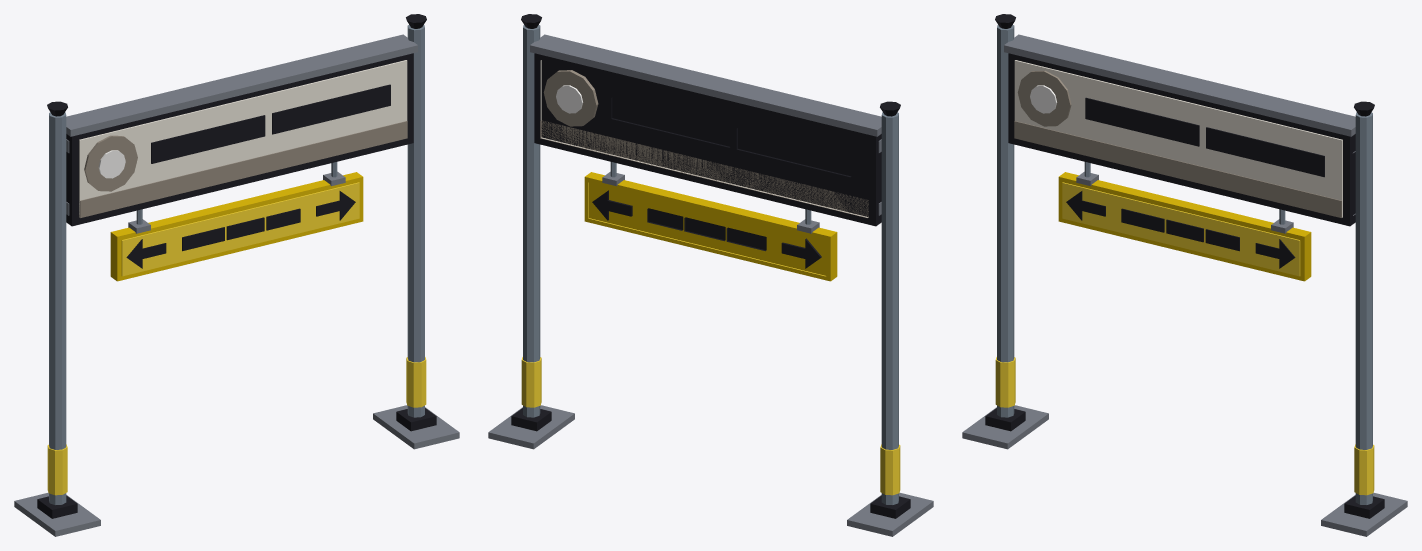
The model's file is subway-signs.glb.
3 renders of one model, left to right at view 1: azimuth 30°, elevation 25°; view 2: azimuth 150°, elevation 25°; view 3: azimuth 330°, elevation 25°, orthographic.
Visible parts, largest first — view 1: panel_warm_white, posts_steel, panel_soot_black, panel_mid_grey, blade_safety_yellow, panel_line_colour, blade_safety_yellow_dark, base_mid_grey, posts_safety_yellow, bullet_line_colour, blade_soot_black, base_soot_black (+2 smaller); view 2: panel_soot_black, posts_steel, blade_safety_yellow_dark, panel_mid_grey, panel_line_colour, base_mid_grey, posts_safety_yellow, bullet_line_colour, blade_soot_black, base_soot_black, arrows_soot_black, bullet_tile_white_light; view 3: panel_warm_white, posts_steel, panel_soot_black, panel_mid_grey, blade_safety_yellow, panel_line_colour, blade_safety_yellow_dark, base_mid_grey, posts_safety_yellow, bullet_line_colour, blade_soot_black, base_soot_black (+2 smaller).
Boxes of the visible parts, <box> form: panel_warm_white: <box>79,60,407,217</box>; posts_steel: <box>49,25,424,504</box>; panel_soot_black: <box>66,53,413,226</box>; panel_mid_grey: <box>66,34,417,136</box>; blade_safety_yellow: <box>121,182,359,276</box>; panel_line_colour: <box>79,121,407,217</box>; blade_safety_yellow_dark: <box>110,172,363,281</box>; base_mid_grey: <box>14,405,459,536</box>; posts_safety_yellow: <box>47,357,426,495</box>; bullet_line_colour: <box>84,135,137,191</box>; blade_soot_black: <box>182,208,300,251</box>; base_soot_black: <box>37,408,436,518</box>; panel_soot_black: <box>534,53,881,226</box>; posts_steel: <box>523,25,898,504</box>; blade_safety_yellow_dark: <box>584,172,837,281</box>; panel_mid_grey: <box>530,34,881,136</box>; panel_line_colour: <box>540,120,868,217</box>; base_mid_grey: <box>488,405,933,536</box>; posts_safety_yellow: <box>521,357,900,495</box>; bullet_line_colour: <box>543,70,598,126</box>; blade_soot_black: <box>647,208,766,251</box>; base_soot_black: <box>511,408,910,518</box>; arrows_soot_black: <box>592,190,821,268</box>; bullet_tile_white_light: <box>556,85,583,113</box>; panel_warm_white: <box>1014,60,1342,217</box>; posts_steel: <box>997,25,1372,504</box>; panel_soot_black: <box>1008,53,1355,226</box>; panel_mid_grey: <box>1004,34,1355,136</box>; blade_safety_yellow: <box>1062,182,1300,276</box>; panel_line_colour: <box>1014,121,1341,217</box>; blade_safety_yellow_dark: <box>1058,172,1311,281</box>; base_mid_grey: <box>962,405,1407,536</box>; posts_safety_yellow: <box>995,357,1374,495</box>; bullet_line_colour: <box>1017,70,1071,126</box>; blade_soot_black: <box>1121,208,1239,251</box>; base_soot_black: <box>985,408,1384,518</box>.
Bounding box in the file's own units: 2.84 × 2.75 × 0.5.
